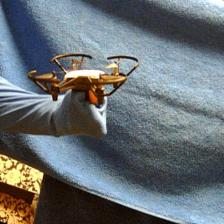drone: (28, 52, 140, 110)
